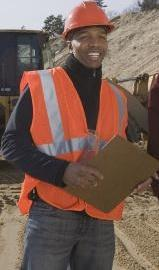hard-hat: (62, 0, 114, 39)
vest: (0, 54, 131, 222)
